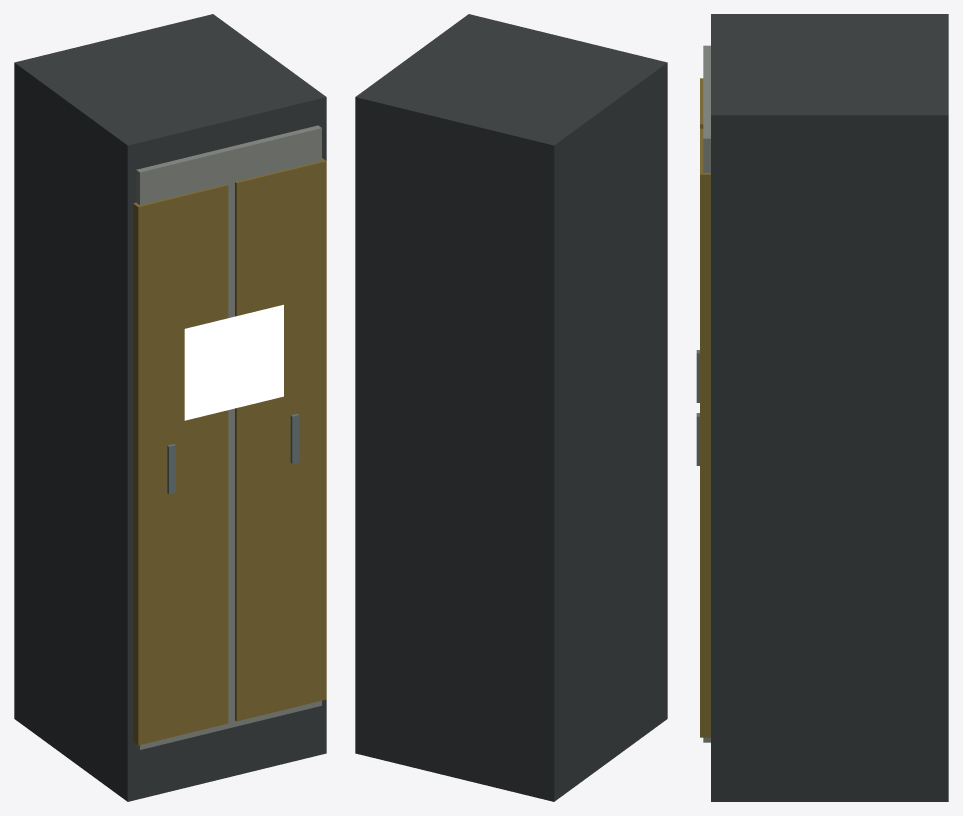
File: beer_fridge.glb
3 views of the same model, side by side, from view 1: azimuth 30°, elevation 25°; view 2: azimuth 150°, elevation 25°; view 3: azimuth 270°, elevation 25° (orthographic). The views are drawn at different scales.
Parts seen in each view (by area): view 1: body, door_left, door_right, emissive_panel; view 2: body; view 3: body, door_right.
Part boxes in pixels (x1,y1,x2,y2): body: [14, 14, 326, 801]; door_left: [133, 184, 228, 745]; door_right: [235, 158, 326, 721]; emissive_panel: [184, 304, 283, 420]; body: [355, 14, 667, 801]; body: [703, 14, 948, 801]; door_right: [696, 128, 710, 737].
Bounding box in the file's own units: 0.57 × 1.8 × 0.5982.
2 materials, 2 textured.
